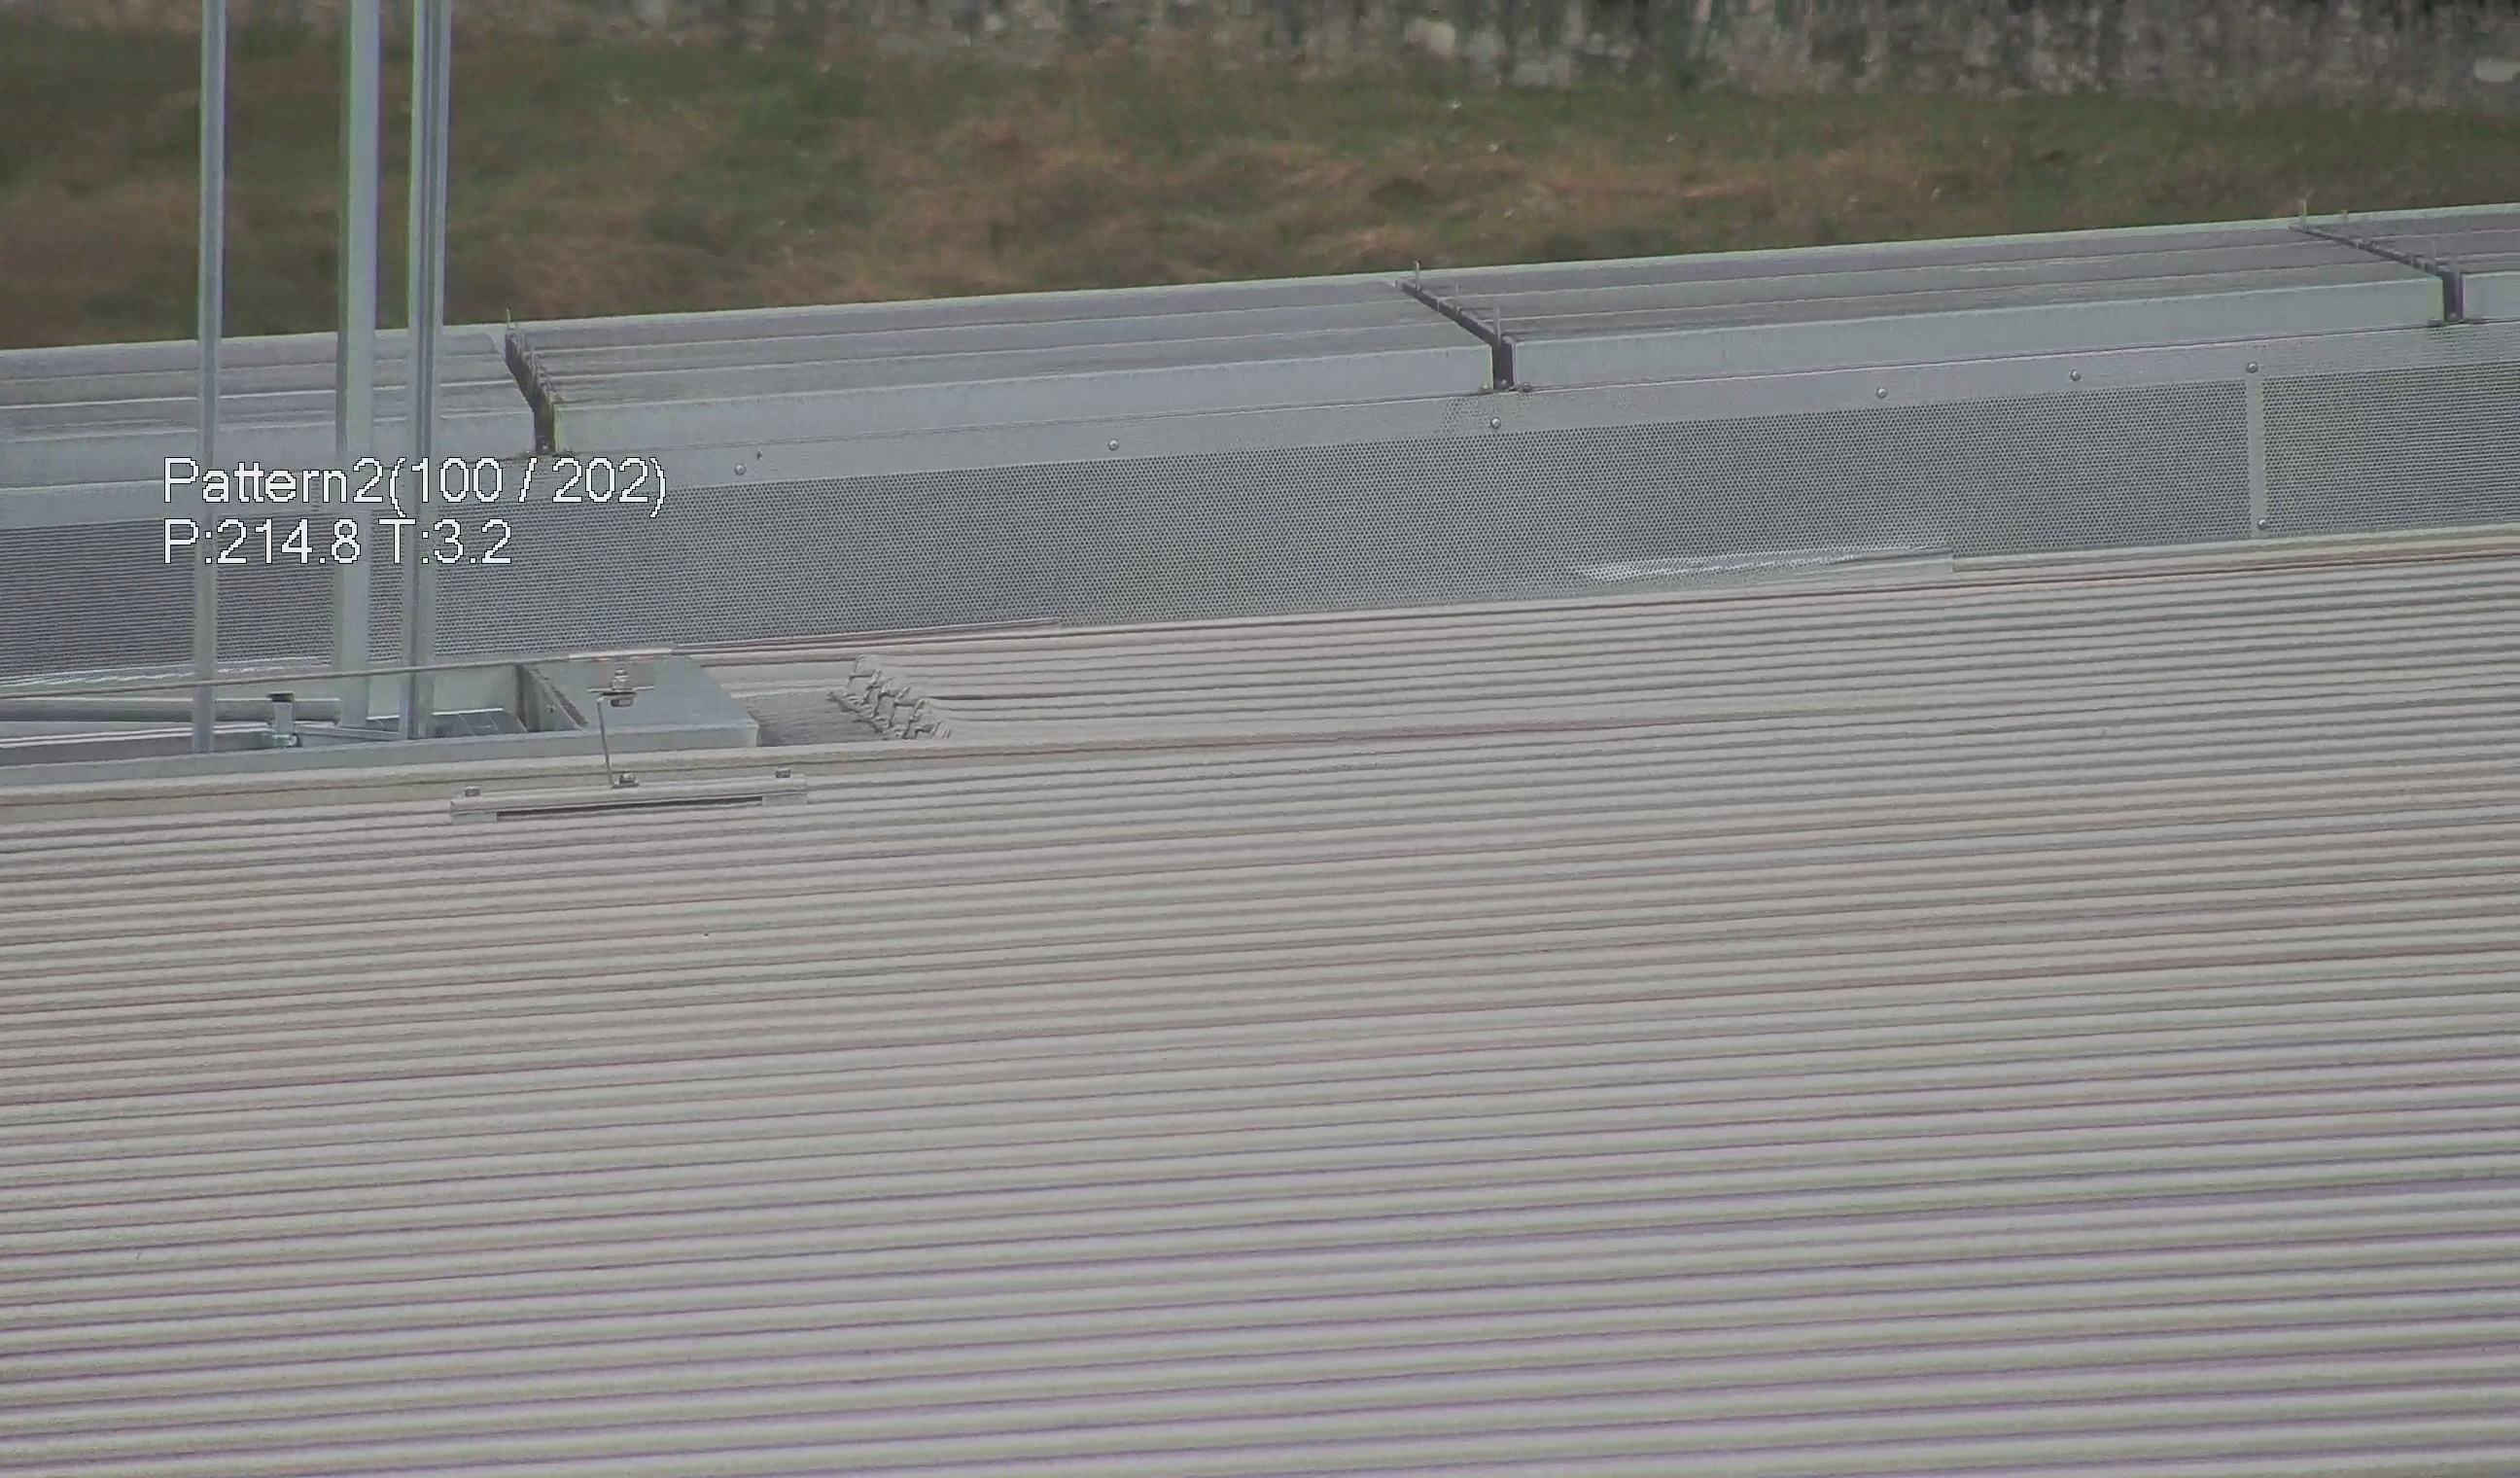Other: (461, 320, 563, 484)
